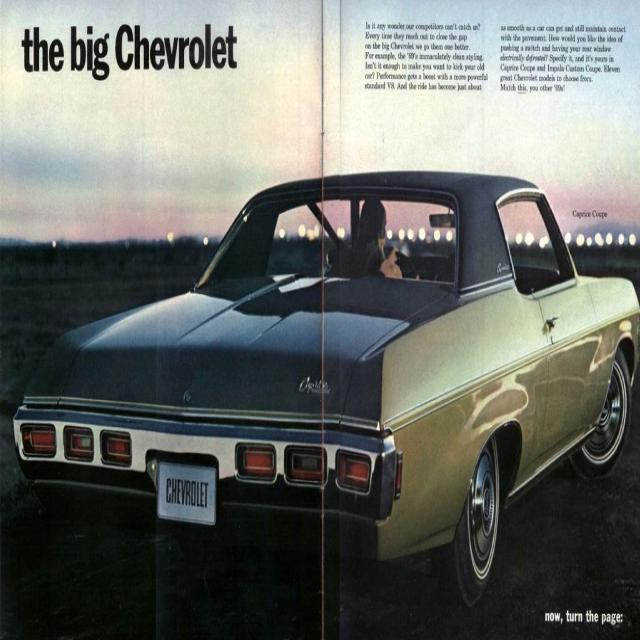car: (9, 161, 639, 612)
